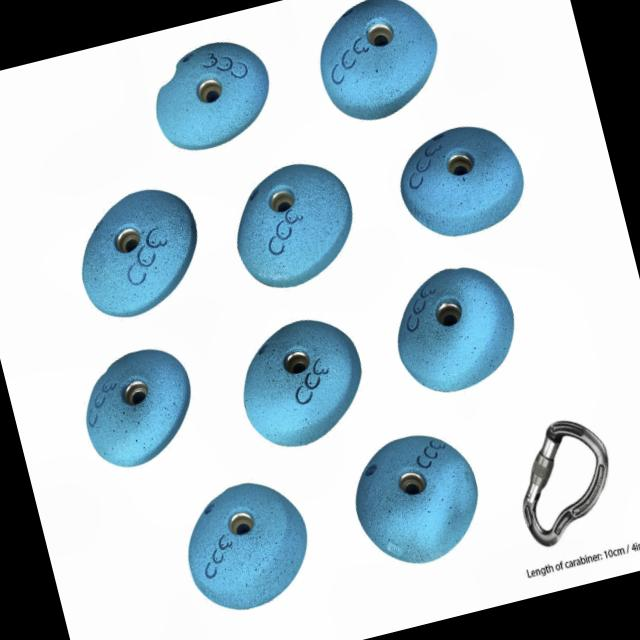Hold: (384, 255, 532, 408), (224, 306, 370, 458), (338, 424, 488, 569), (172, 469, 314, 616), (383, 108, 532, 248), (65, 180, 208, 322), (301, 0, 455, 131), (221, 152, 362, 292), (71, 337, 209, 477)
